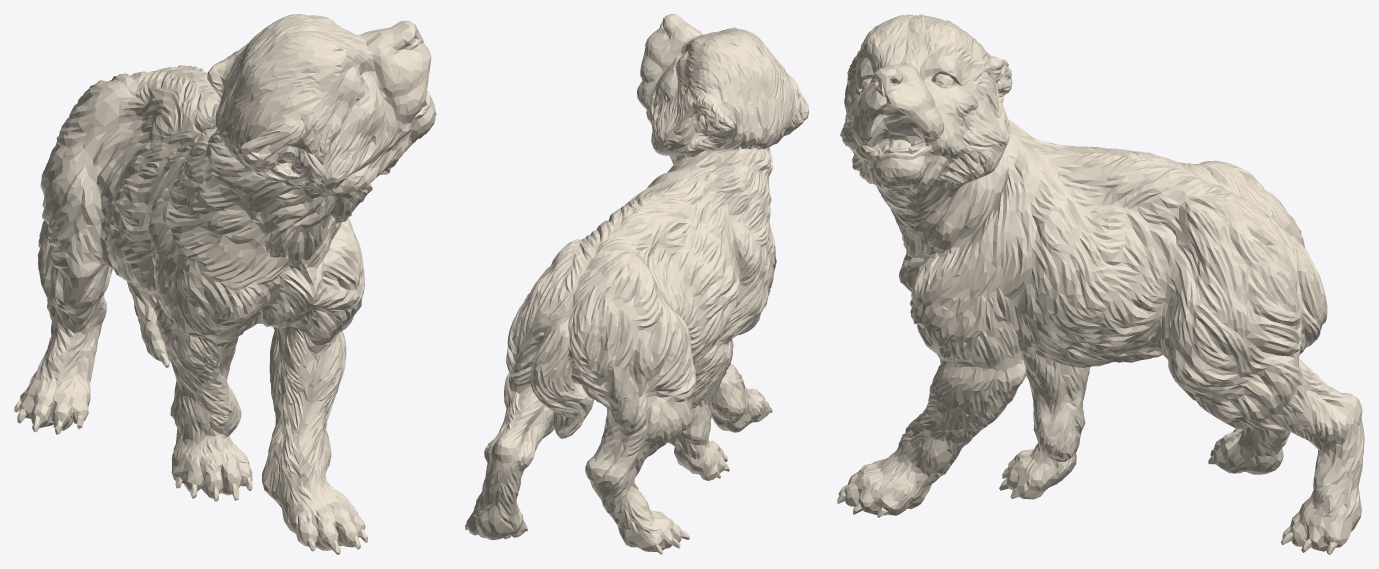
Rendered from animal_wolfpup_v1.glb.
3 renders of one model, left to right at view 1: azimuth 30°, elevation 25°; view 2: azimuth 150°, elevation 25°; view 3: azimuth 270°, elevation 25°, orthographic. The views are drawn at different scales.
Parts seen in each view (by area): view 1: wolf-pup; view 2: wolf-pup; view 3: wolf-pup.
Boxes of the visible parts, x1,y1,x2,y2 form: wolf-pup: [14, 14, 436, 554]; wolf-pup: [465, 14, 808, 554]; wolf-pup: [837, 14, 1364, 554].
Bounding box in the file's own units: 28.77 × 60.16 × 59.16.
